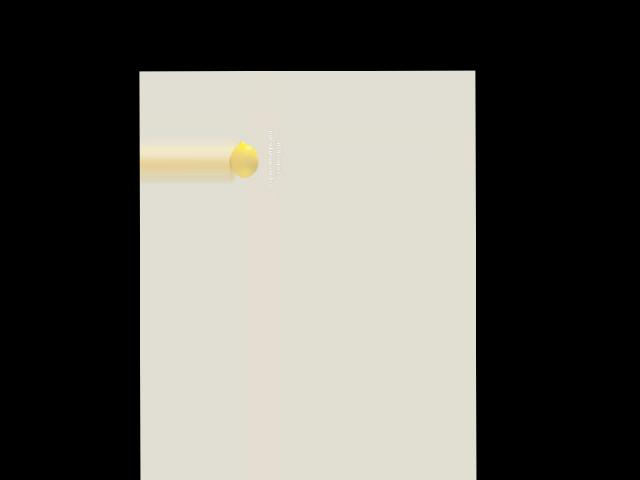lemon: (231, 141, 260, 179)
